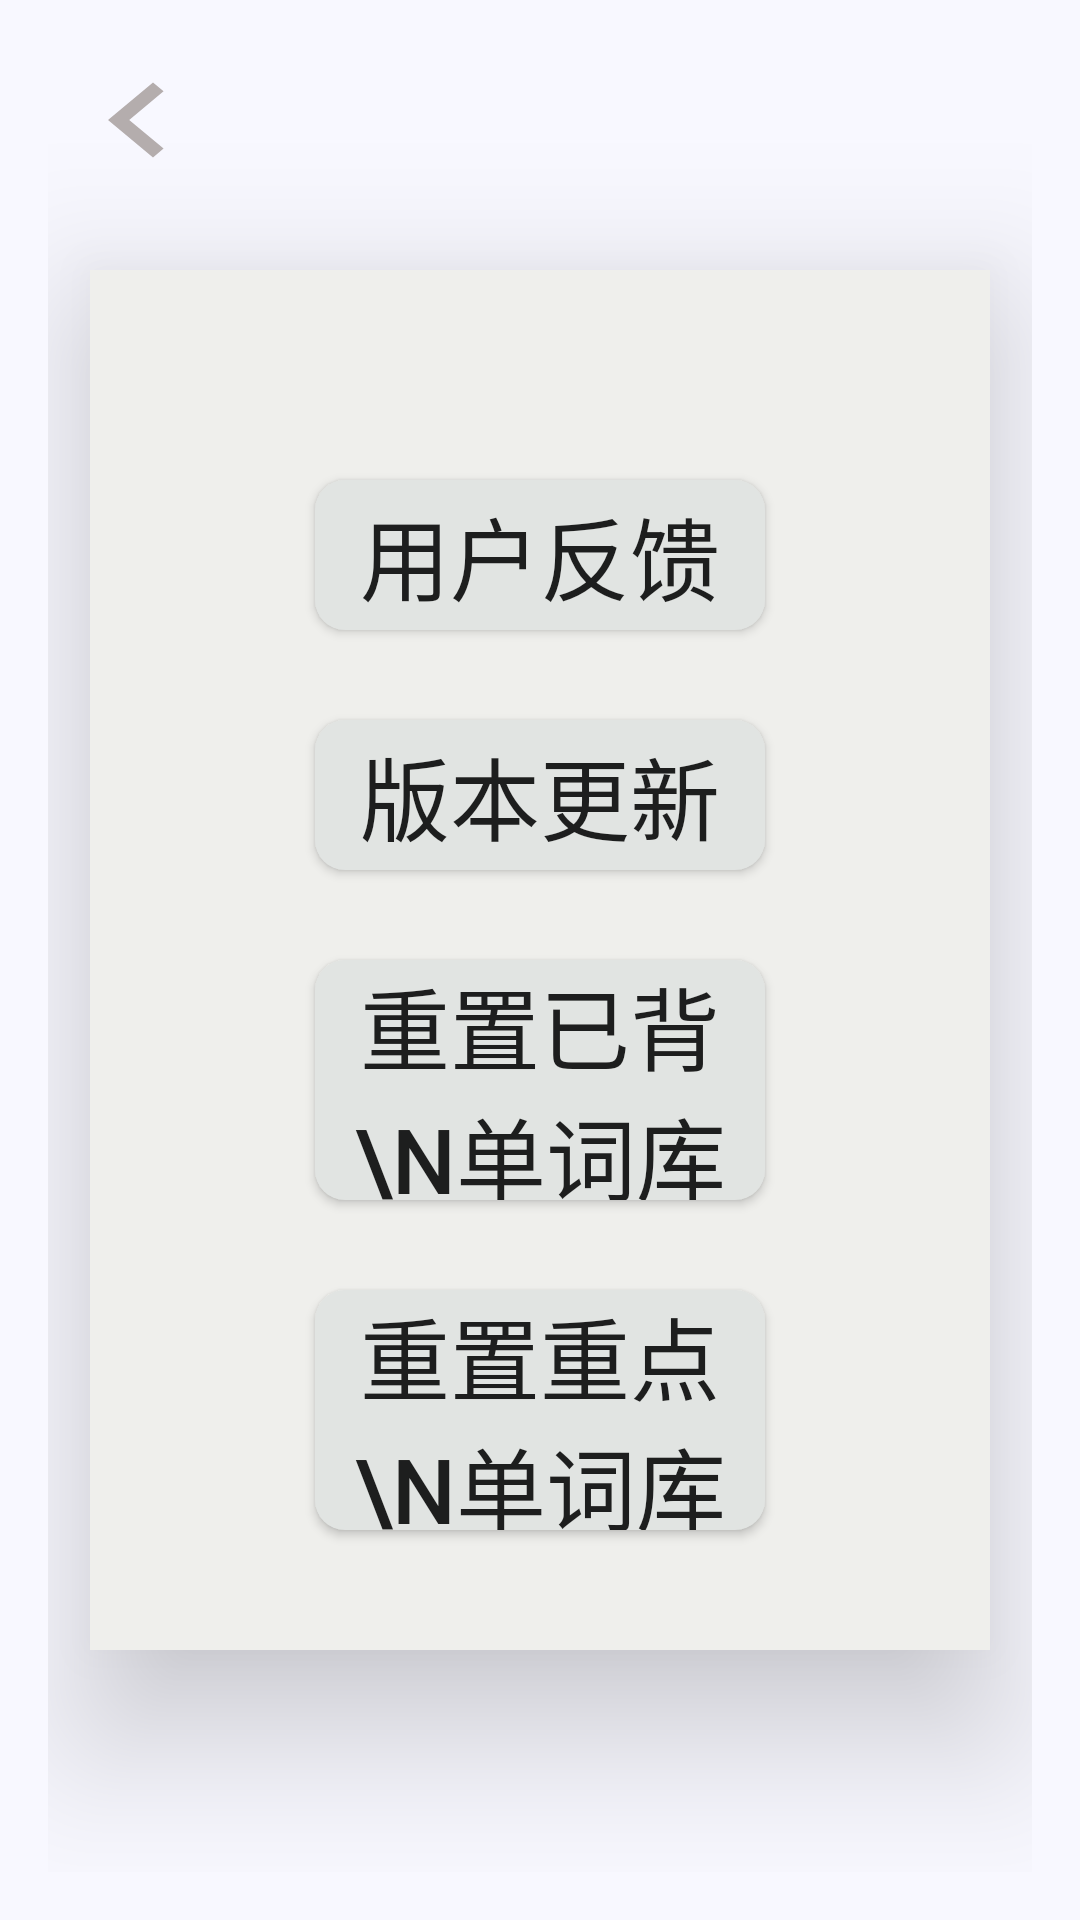

Point at icon controls on the screen. Image size 1080×1920, points as point (x, y).
keyboard arrow left: point (135, 120)
